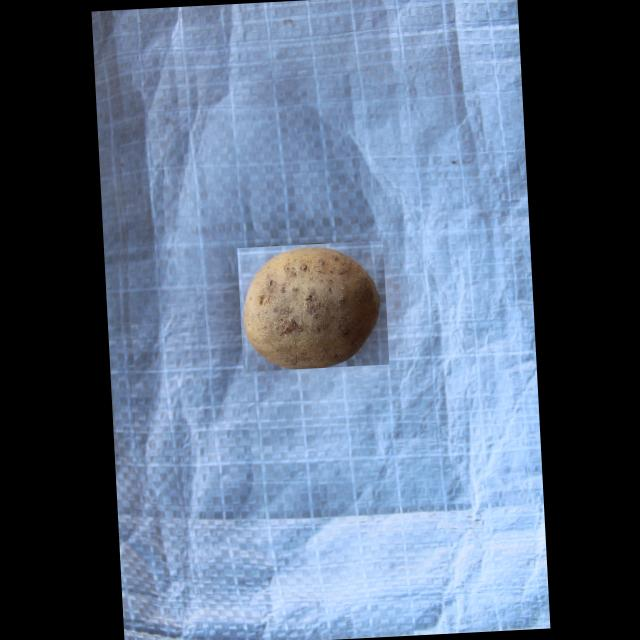Diseased-fungal potato: (236, 241, 388, 372)
